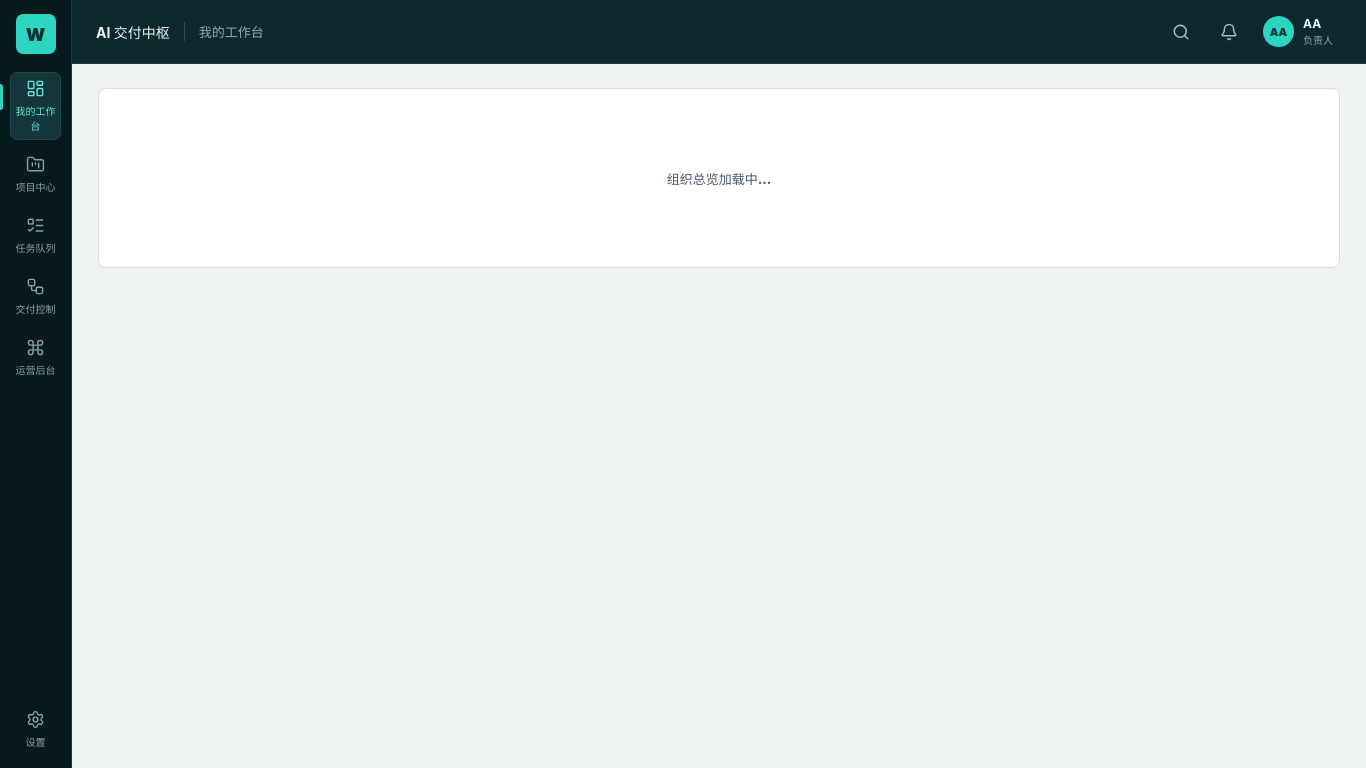
Test: App › keeps the delivery overview compact and moves detailed columns to workflow tabs
The width and height of the screenshot is (1366, 768).
Step 1. Click the button "交付控制" → (36, 296), box [10,270,61,323]
(page scrolled)
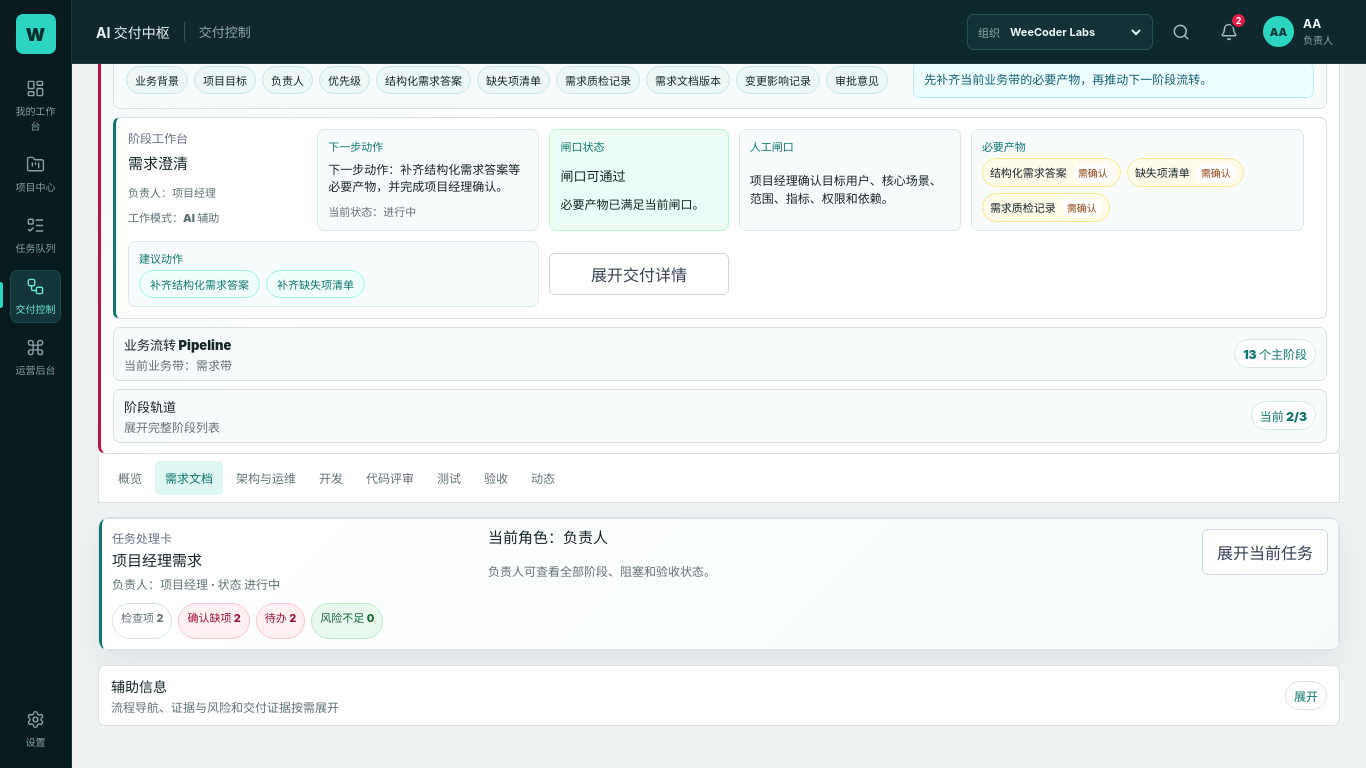
Step 2. Click the tab "概览" → (130, 478), box [108,461,152,495]
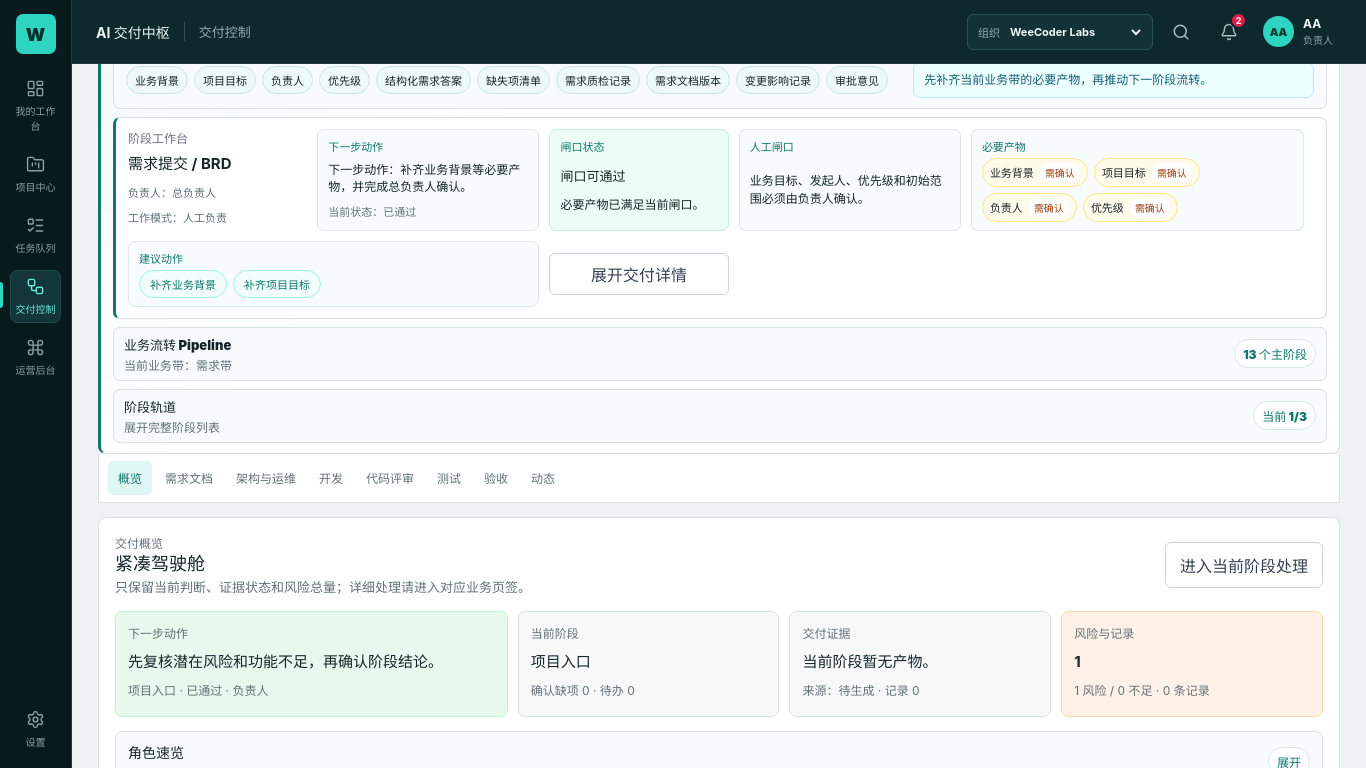
Expected: the text "交付证据" is shown, [802,626,850,641]
Expected: the text "下一步动作" in the row of "交付证据" is shown, [128,626,188,641]
Expected: the text "风险与记录" is shown, [1074,626,1134,641]
Step 3. Click the tab "需求文档" → (189, 478), box [155,461,223,495]
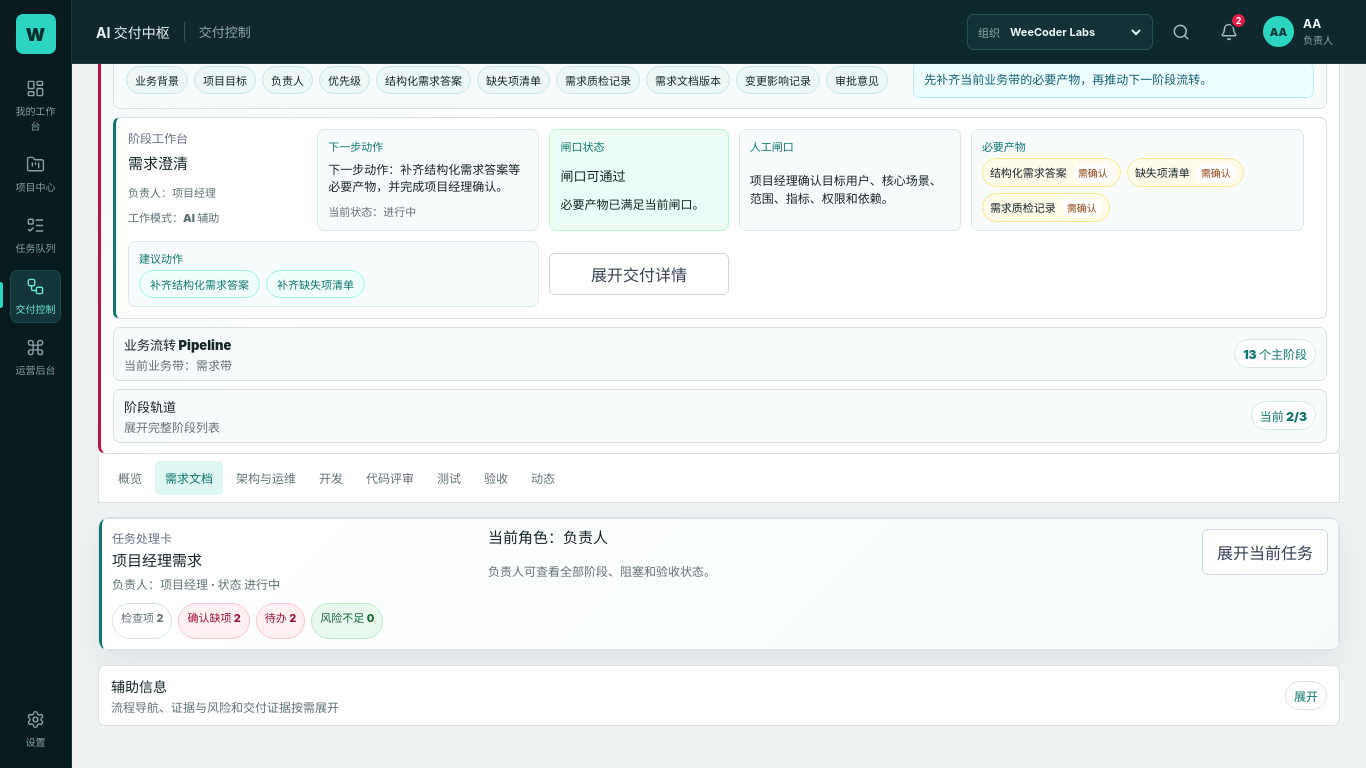
Expected: the element named "当前动作列" is shown, [98,517,1340,652]
Expected: the element named "辅助信息面板" is shown, [98,666,1340,726]
